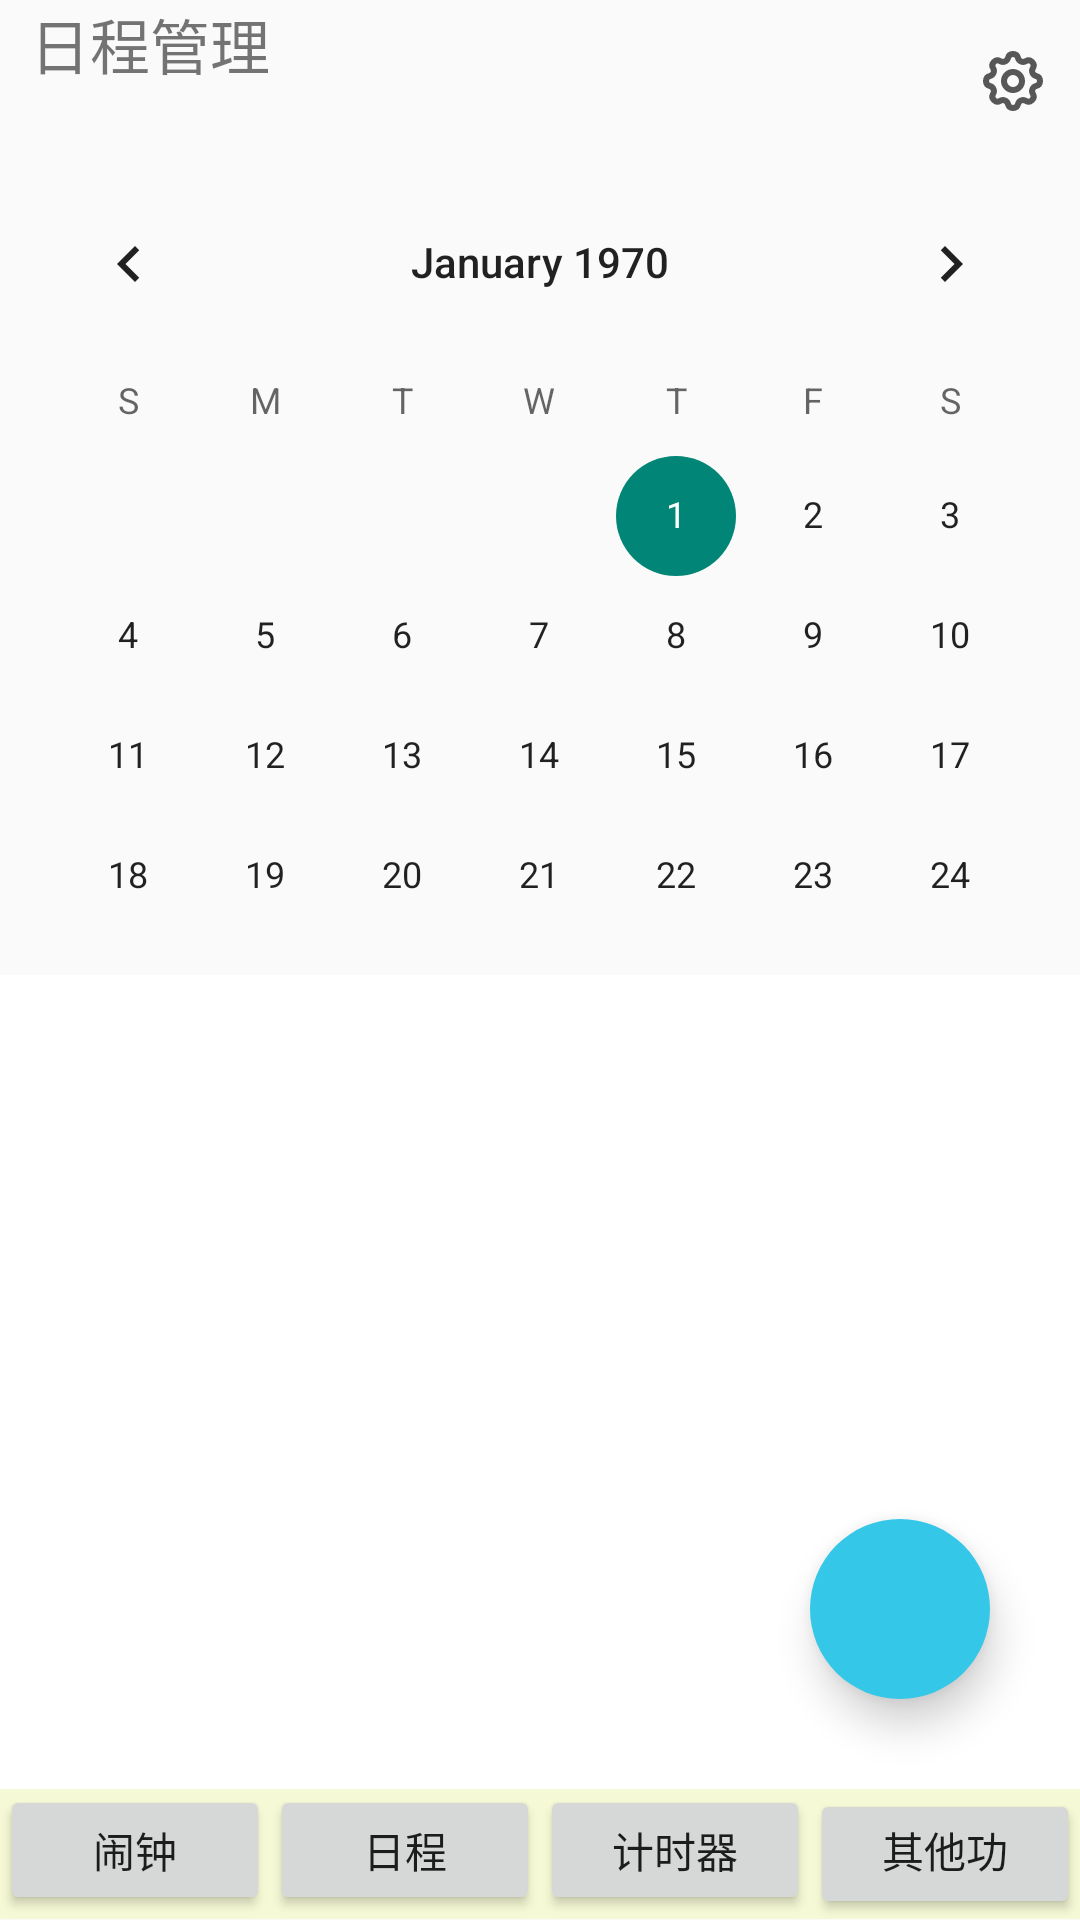

Where to tap for icons on this 1080px x 1920px app screen, as (x,y):
setting: (1013,81)
